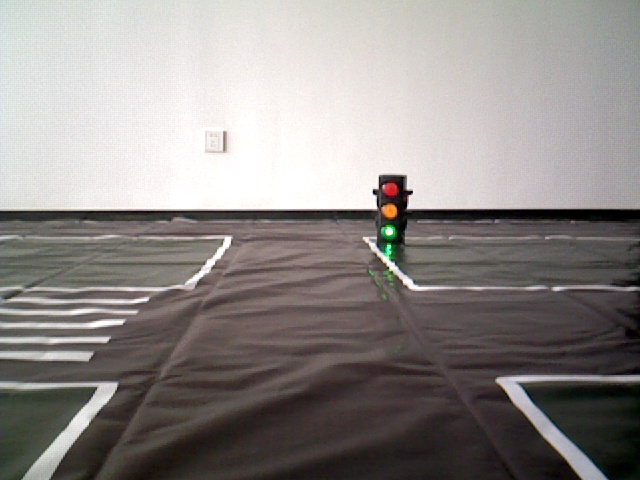green: (379, 177, 399, 241)
